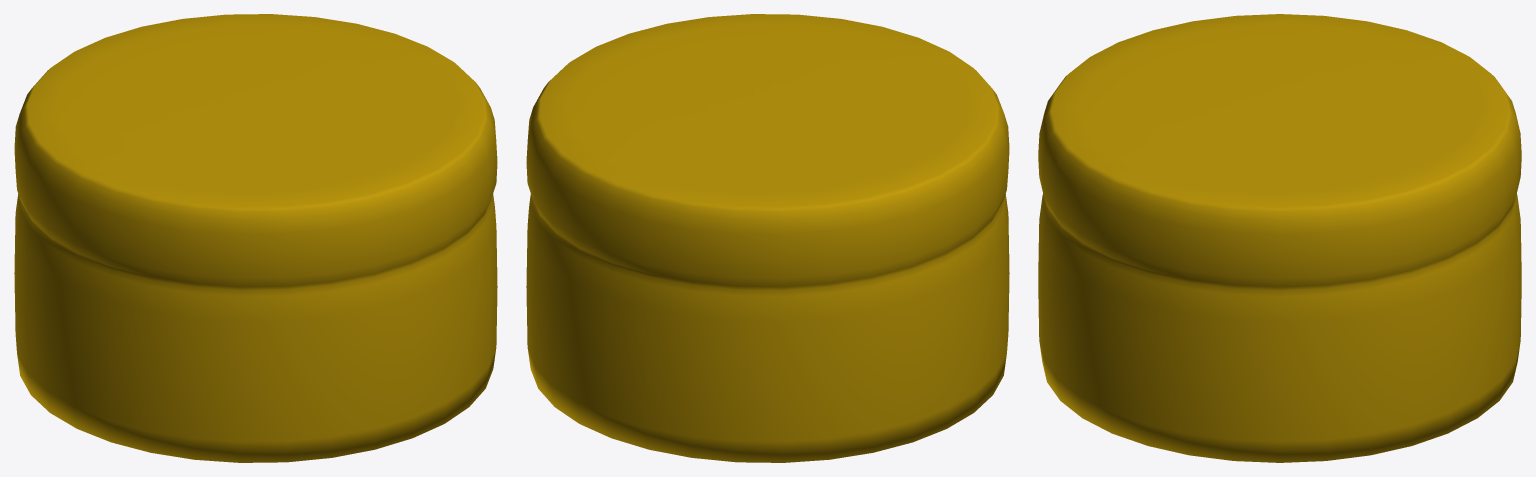
File: Cream.fbx
The picture shows the model from 3 angles, left to right: view 1: azimuth 30°, elevation 25°; view 2: azimuth 150°, elevation 25°; view 3: azimuth 270°, elevation 25°; orthographic projection.
Parts seen in each view (by area): view 1: Cream; view 2: Cream; view 3: Cream.
Boxes of the visible parts, x1=… form: Cream: x1=14, y1=14, x2=497, y2=462; Cream: x1=526, y1=14, x2=1009, y2=462; Cream: x1=1038, y1=14, x2=1521, y2=462.
Size of the model in its own units: 56.66 by 33.37 by 56.66.
